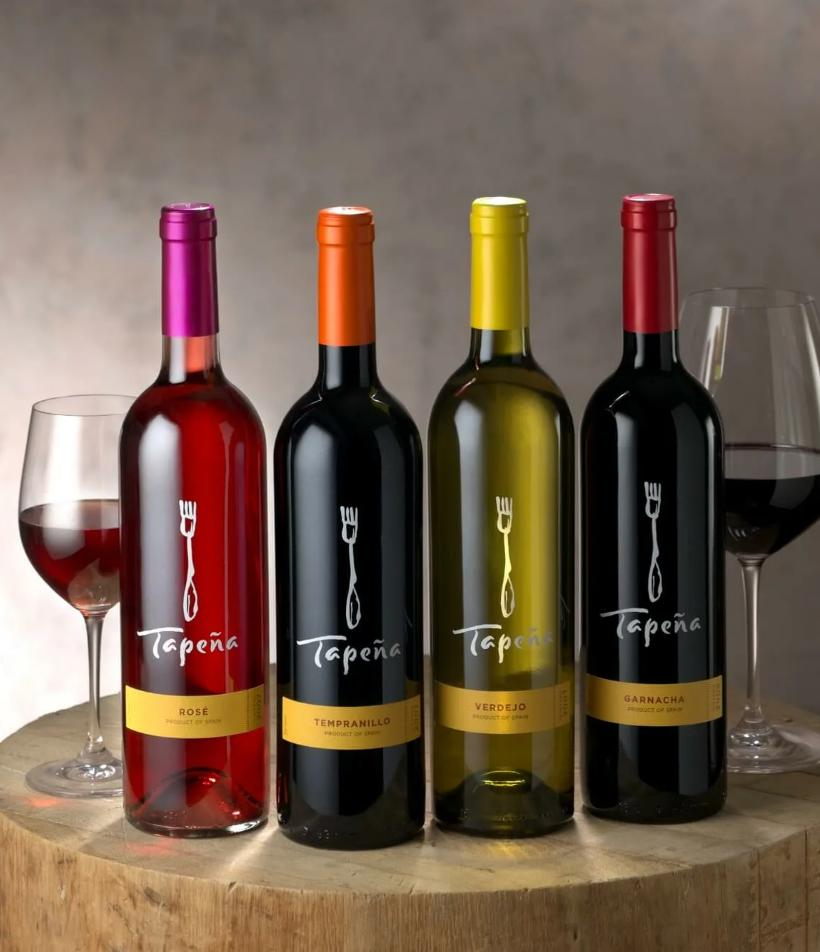wine bottle: (274, 203, 428, 853), (429, 194, 578, 841), (579, 193, 729, 826), (121, 206, 270, 843)
wine label: (125, 683, 267, 740), (280, 695, 422, 750), (585, 675, 723, 728), (438, 679, 572, 732)
